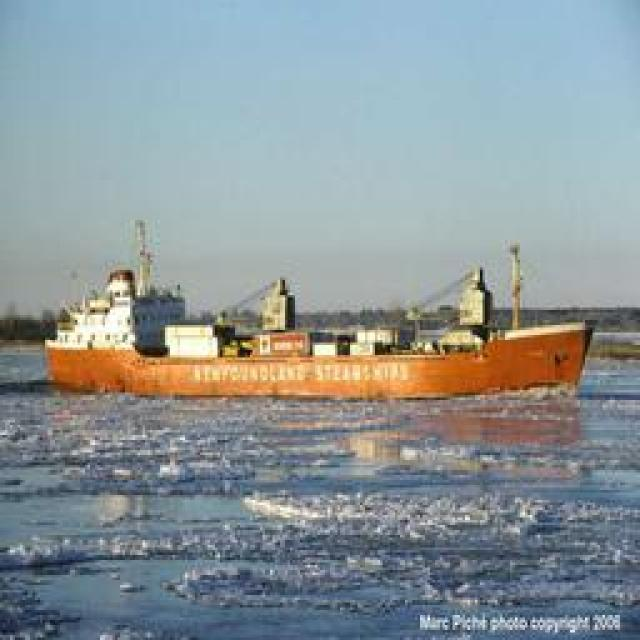CIV_Ship: (38, 308, 598, 402)
